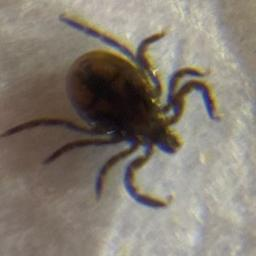Ixodes scapularis: (5, 12, 216, 209)
